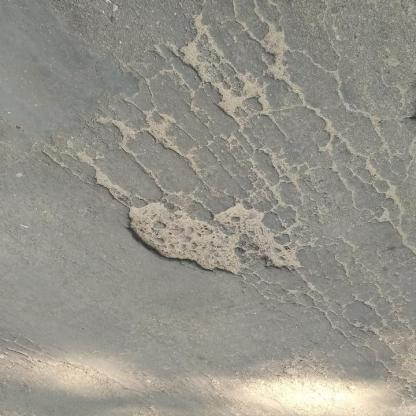pothole: (123, 199, 304, 279)
